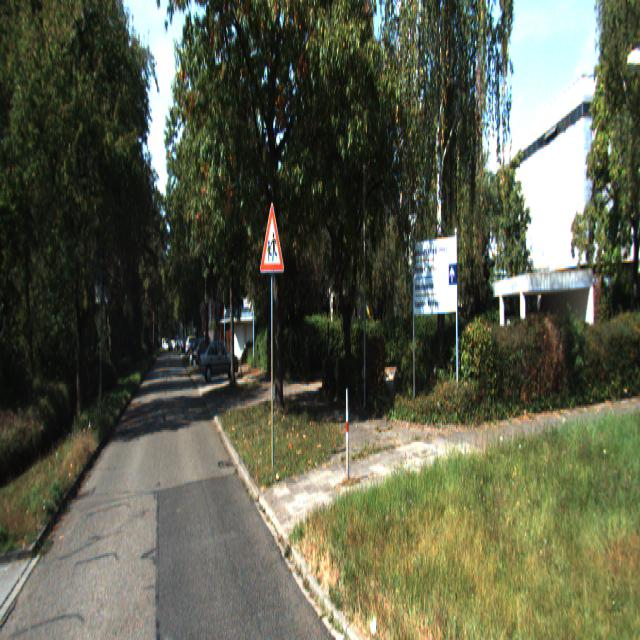Car: (199, 337, 239, 383)
